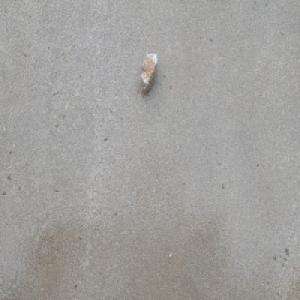Rock: (138, 52, 157, 95)
